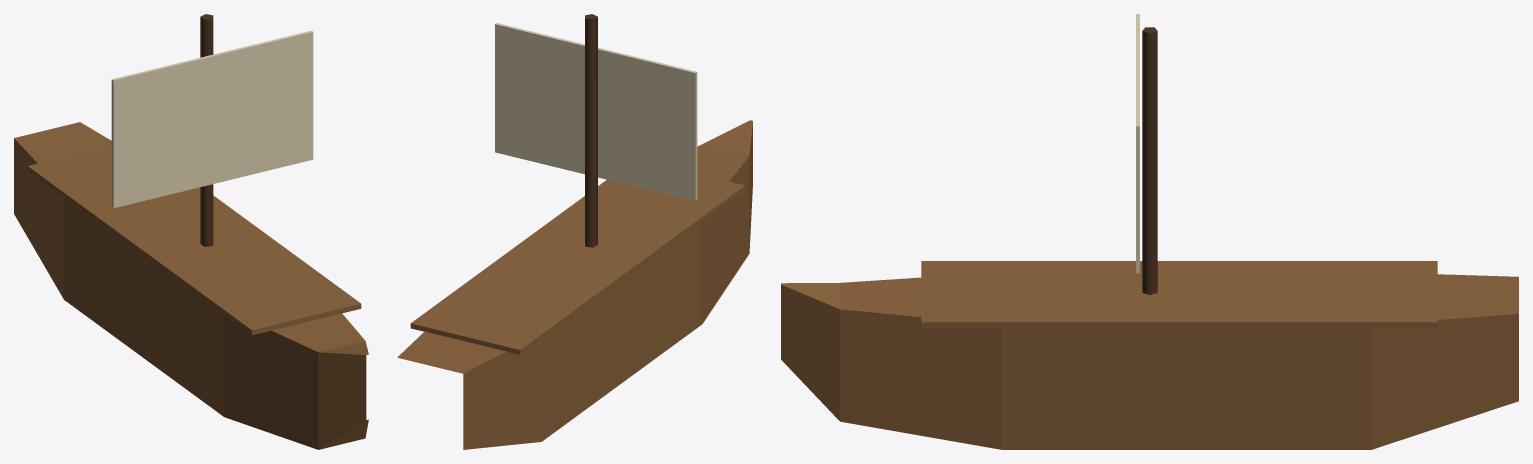
Rendered from veh_naval_merchant_a01_lod2.glb.
3 renders of one model, left to right at view 1: azimuth 30°, elevation 25°; view 2: azimuth 150°, elevation 25°; view 3: azimuth 270°, elevation 25°, orthographic. The views are drawn at different scales.
Parts seen in each view (by area): view 1: body, sail_0; view 2: body, sail_0; view 3: body, sail_0.
Part boxes in pixels (x1,y1,x2,y2): body: (14,14,368,449); sail_0: (111,30,313,208); body: (397,14,752,449); sail_0: (495,23,697,201); body: (781,27,1518,449); sail_0: (1136,14,1139,273).
Size of the model in its own units: 3.31 by 5.41 by 9.2.
